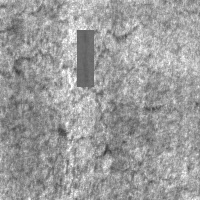crazing: (11, 50, 162, 175), (3, 3, 148, 56)
inclusion: (77, 30, 94, 87)
